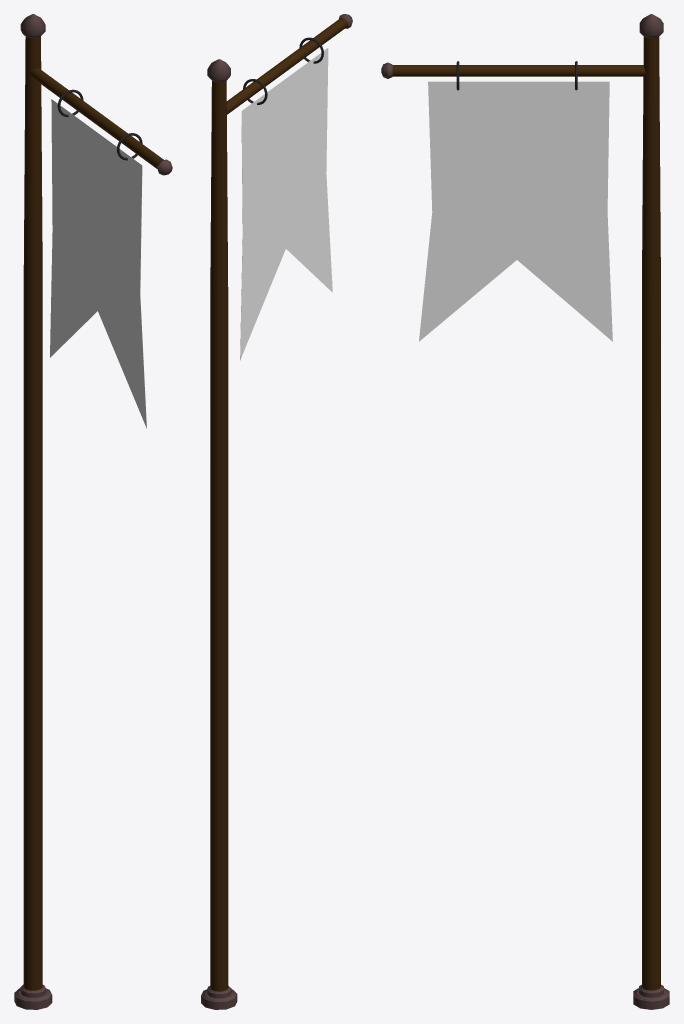
Rendered from Flag_981.obj.
3 renders of one model, left to right at view 1: azimuth 30°, elevation 25°; view 2: azimuth 150°, elevation 25°; view 3: azimuth 270°, elevation 25°, orthographic. The views are drawn at different scales.
Visible parts, largest first — view 1: Box001, Tube001, Tube002, ChamferCyl002, ChamferCyl003; view 2: Box001, Tube001, Tube002, ChamferCyl002, ChamferCyl003; view 3: Box001, Tube001, Tube002.
Part boxes in pixels (box(x1,y1,x2,y2)): Box001: box(50, 99, 146, 428); Tube001: box(23, 36, 42, 990); Tube002: box(30, 68, 163, 168); ChamferCyl002: box(14, 988, 52, 1009); ChamferCyl003: box(20, 14, 45, 37); Box001: box(240, 48, 332, 360); Tube001: box(210, 80, 228, 991); Tube002: box(226, 18, 347, 114); ChamferCyl002: box(201, 989, 237, 1009); ChamferCyl003: box(207, 59, 230, 82); Box001: box(419, 81, 612, 341); Tube001: box(642, 36, 660, 990); Tube002: box(392, 65, 645, 76).
Bounding box in the file's own units: 2.58 × 73.53 × 19.44.
